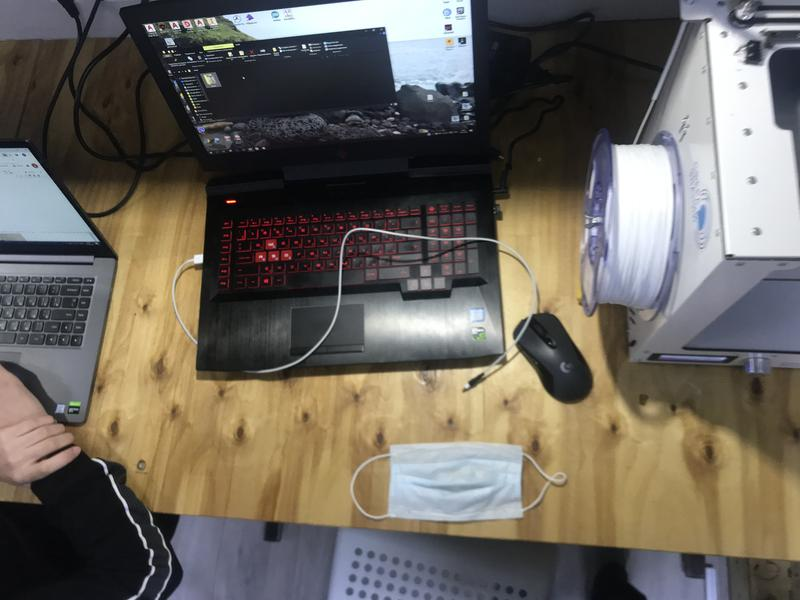medical_mask: (351, 445, 569, 519)
